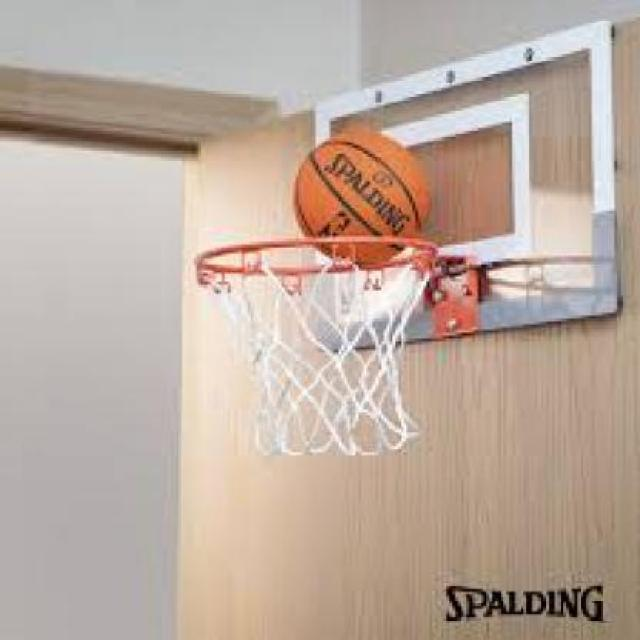basketball: (296, 137, 420, 259)
rim: (193, 235, 439, 452)
